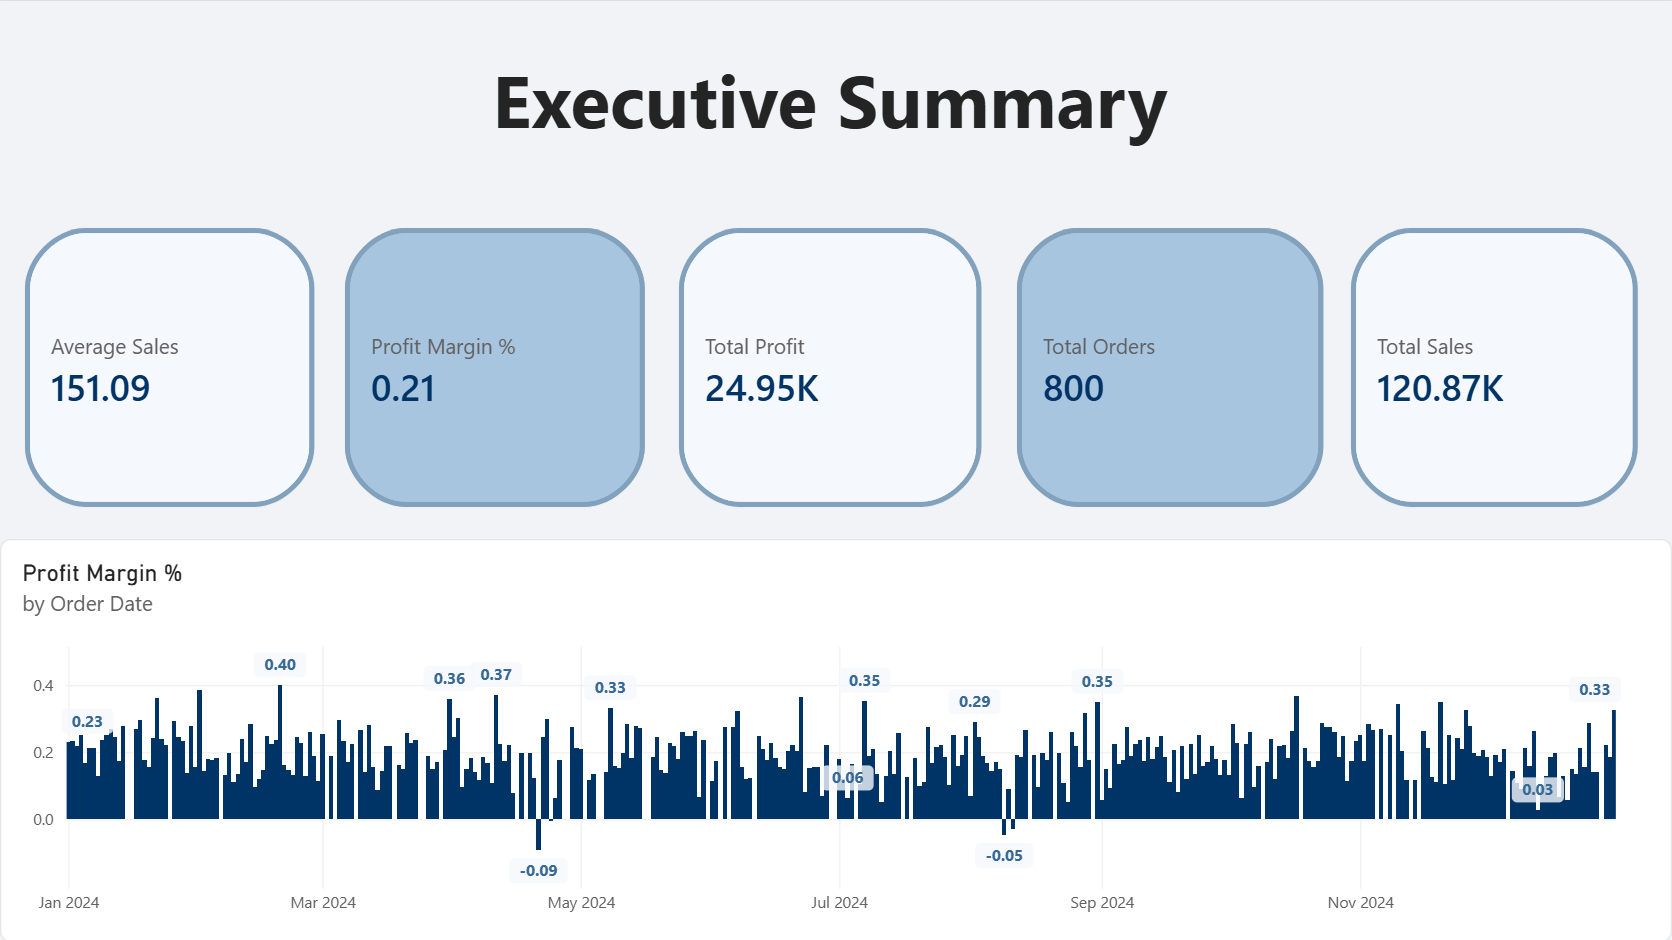

What the dashboard file says about the page in this screenshot:
{"tool":"powerbi","page":{"name":"Executive Summary","canvas":[1280,720],"ordinal":0},"visuals":[{"type":"cardVisual","fields":{"Data":["Product_Table.Average Sales"]},"box":[18.3,173.3,223.3,215],"z":0},{"type":"textbox","box":[0,0,1270.6,167.8],"z":1000},{"type":"cardVisual","fields":{"Data":["Product_Table.Profit Margin %"]},"box":[263.3,173.3,231.7,215],"z":2000},{"type":"cardVisual","fields":{"Data":["Product_Table.Total Profit"]},"box":[518.3,173.3,233.3,215],"z":3000},{"type":"cardVisual","fields":{"Data":["Product_Table.Total Orders"]},"box":[778.3,173.3,236.7,215],"z":4000},{"type":"cardVisual","fields":{"Data":["Product_Table.Total Sales"]},"box":[1033.3,173.3,221.7,215],"z":5000},{"type":"lineStackedColumnComboChart","fields":{"Category":["Sales_Table.Order Date"],"Y":["Product_Table.Profit Margin %"]},"box":[0,411.7,1280,308.3],"z":6000}]}

Visuals, with their boxes in screenshot pixels (x1, y1, x2, y2), scaled from the page's 1280x720 canvas onto the 1672x940 screenshot:
cardVisual - Product_Table.Average Sales: 24:226:316:507
textbox: 0:0:1660:219
cardVisual - Product_Table.Profit Margin %: 344:226:647:507
cardVisual - Product_Table.Total Profit: 677:226:982:507
cardVisual - Product_Table.Total Orders: 1017:226:1326:507
cardVisual - Product_Table.Total Sales: 1350:226:1639:507
lineStackedColumnComboChart - Sales_Table.Order Date x Product_Table.Profit Margin %: 0:537:1671:939
